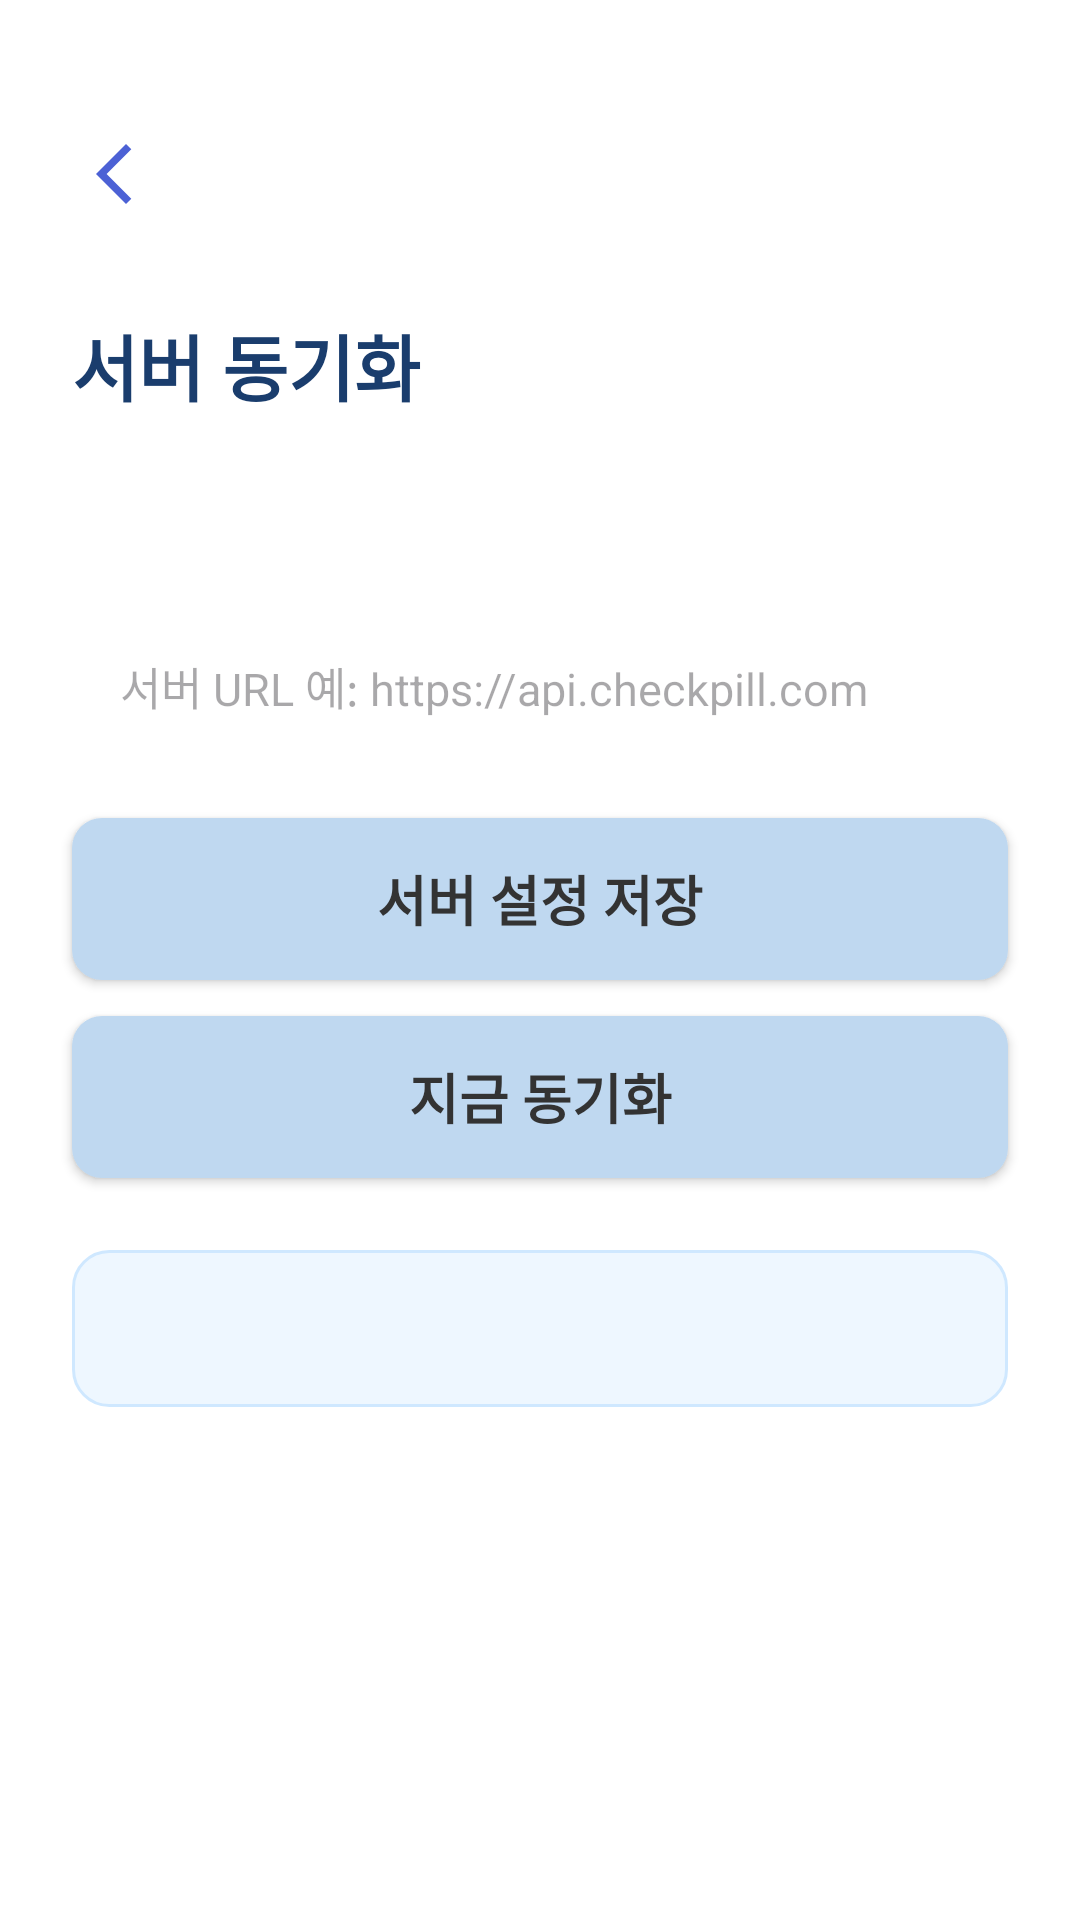

Screen size 1080 x 1920. Icon name, then its box in pixels as region(x1, y1, x2, y2):
뒤로가기: region(96, 144, 131, 204)
